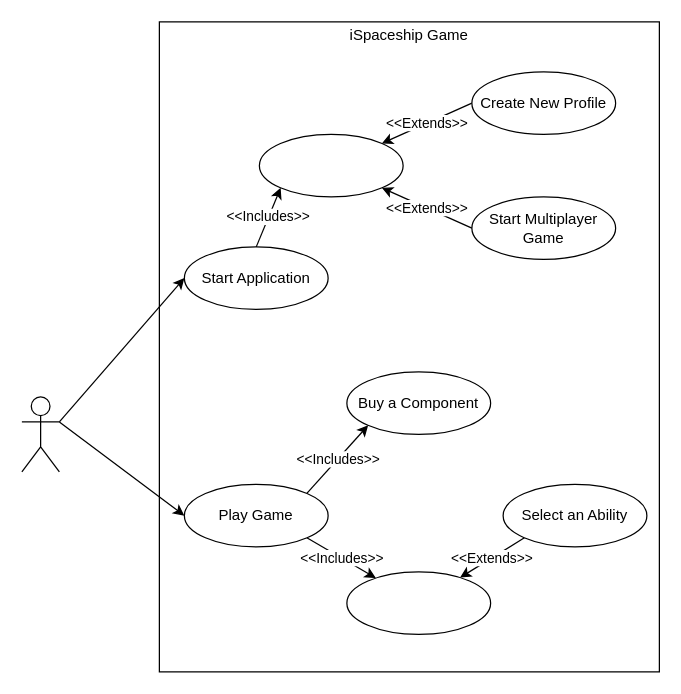
Some shapes in this 681 by 694 pixel diagram are drawn without their labels. Each missing label, with the box of its shape:
Enter Main Menu: (258, 133, 403, 197)
Start a Mission: (346, 571, 491, 634)
User: (21, 396, 59, 472)
